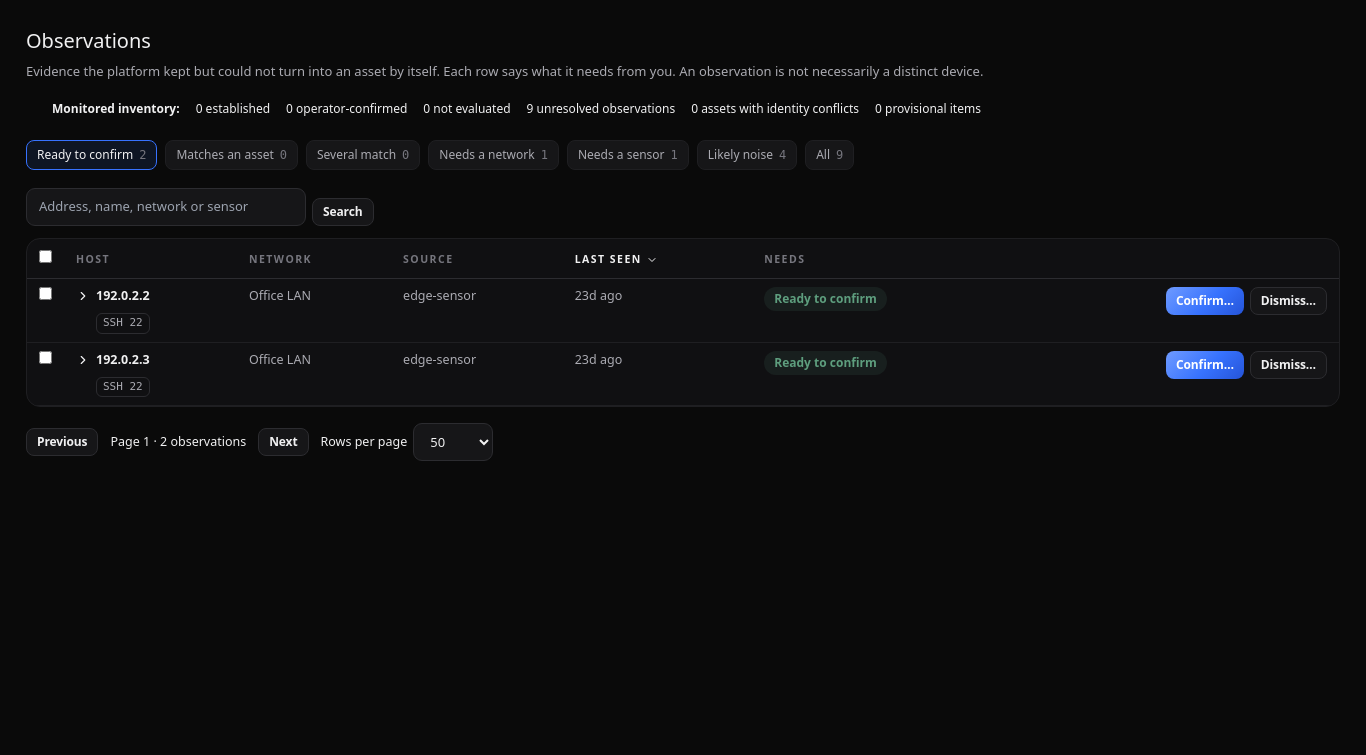
Test: what this needs › turns the proposed reason around when the person dismisses a ready row
Step 1. Click the 1st button "Dismiss…" → (1288, 301), box [1250,287,1327,315]
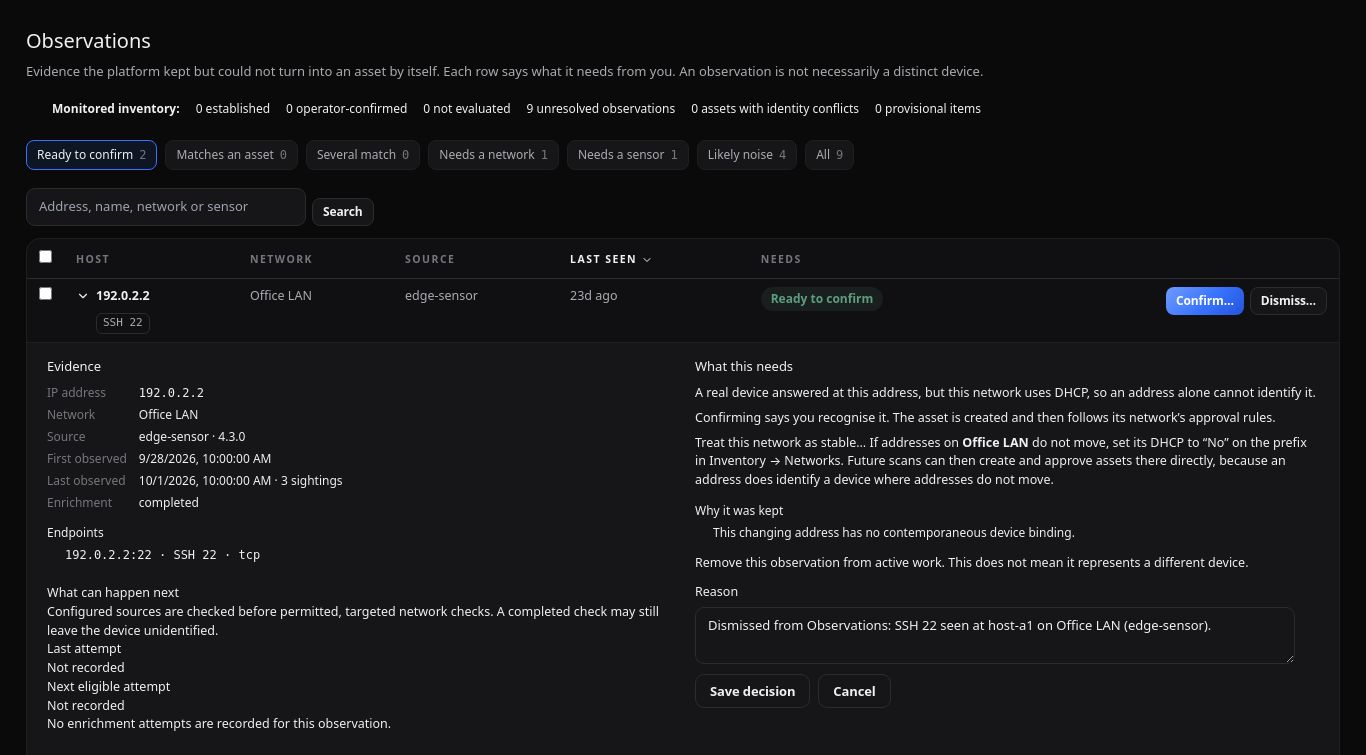
Result: the text box labelled "Reason" holds "Dismissed from Observations: SSH 22 seen at host-a1 on Office LAN (edge-sensor)." at [695,607,1295,664]
